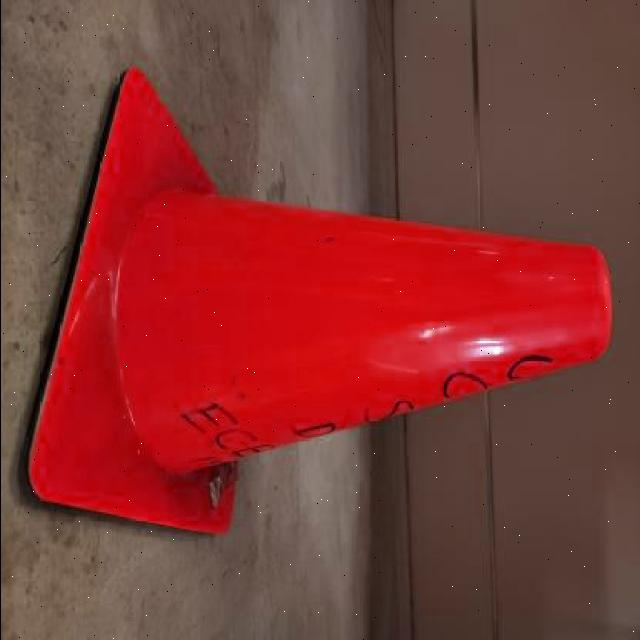traffic cone: (17, 63, 623, 546)
